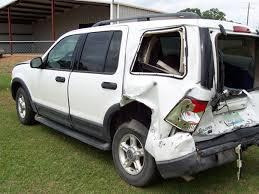Taillight-Damage: (175, 99, 208, 140)
boot-dent: (207, 90, 255, 132)
quaterpanel-dent: (118, 74, 195, 117)
rear-bumper-dent: (172, 138, 250, 169)
